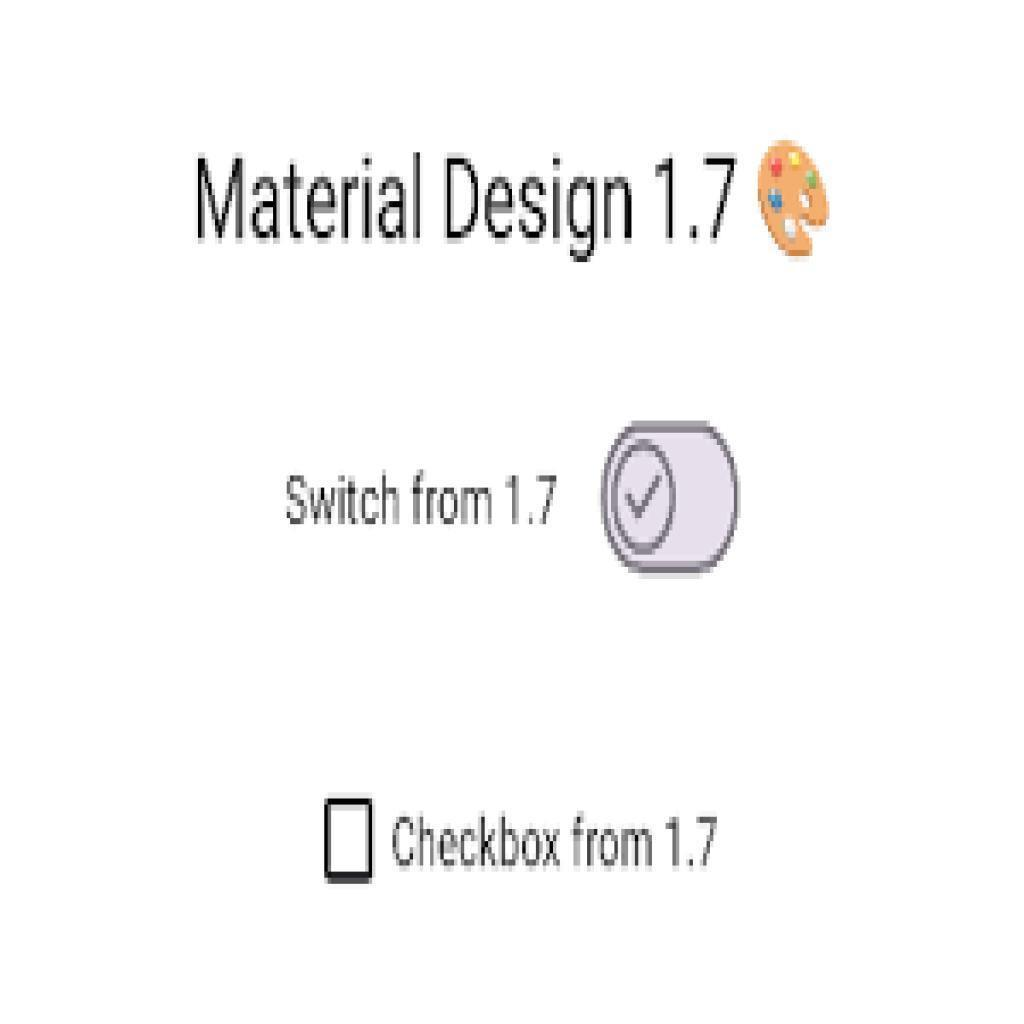checkbox: (324, 798, 374, 877)
label: (196, 149, 736, 255), (396, 806, 726, 877), (280, 464, 560, 539)
switch: (601, 418, 741, 575)
